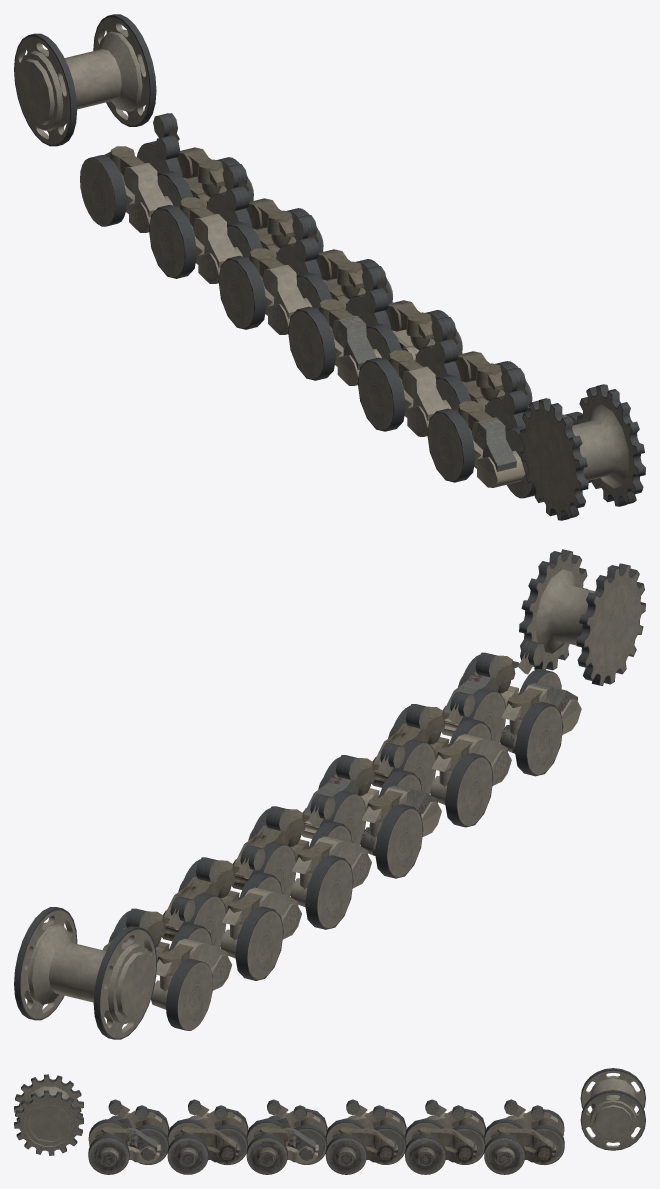
The model's file is wheels_right.obj.
3 views of the same model, one above another, from view 1: azimuth 30°, elevation 25°; view 2: azimuth 150°, elevation 25°; view 3: azimuth 270°, elevation 25° (orthographic). The views are drawn at different scales.
Parts seen in each view (by area): view 1: wheels_right; view 2: wheels_right; view 3: wheels_right.
Boxes of the visible parts, x1,y1,x2,y2 form: wheels_right: (14, 14, 645, 520); wheels_right: (14, 549, 645, 1039); wheels_right: (14, 1068, 645, 1174).
Bounding box in the file's own units: 1.04 × 1.19 × 8.5.
Materials: 2 (2 with a texture image).
